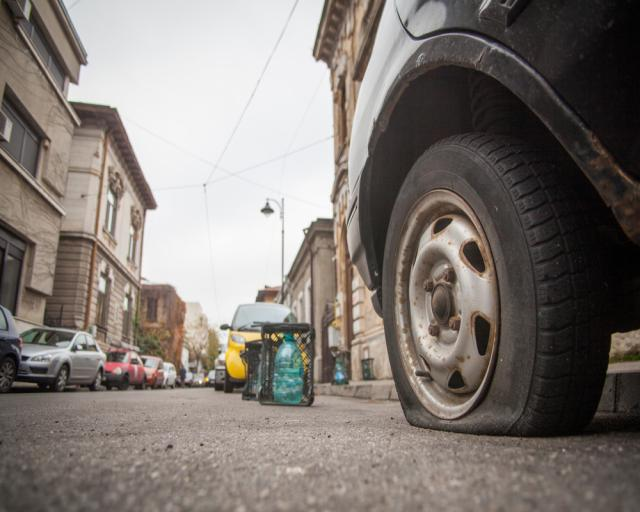tire flat: (383, 131, 613, 437)
